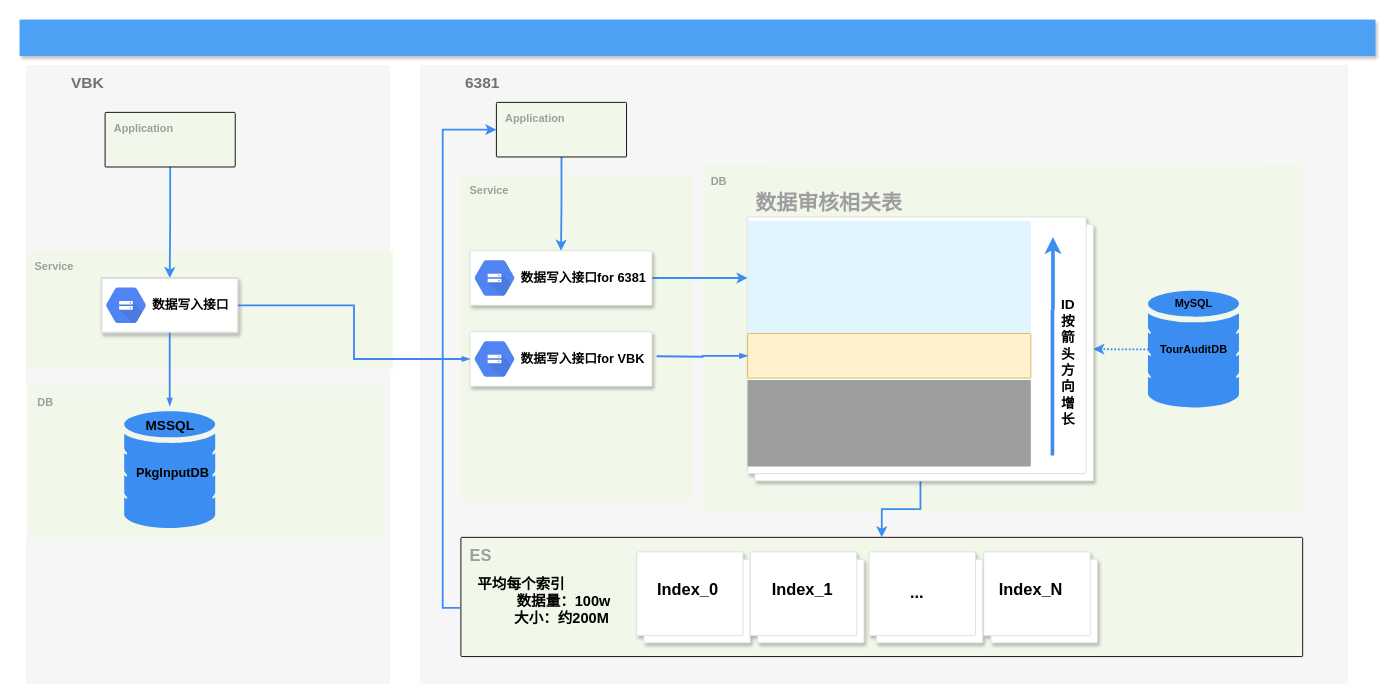
Image size: 1396x699. Some labels were removed from this diagram. Here are the shapes that lost their labels. From the top down, the centre of each, then its label:
At [697,38]: "8890模块MSSQL转MySQL".
At [888,277]: "合并后新数据ID区间".
At [889,355]: "合并灰度切换预留ID区间".
At [888,422]: "老数据ID区间".
